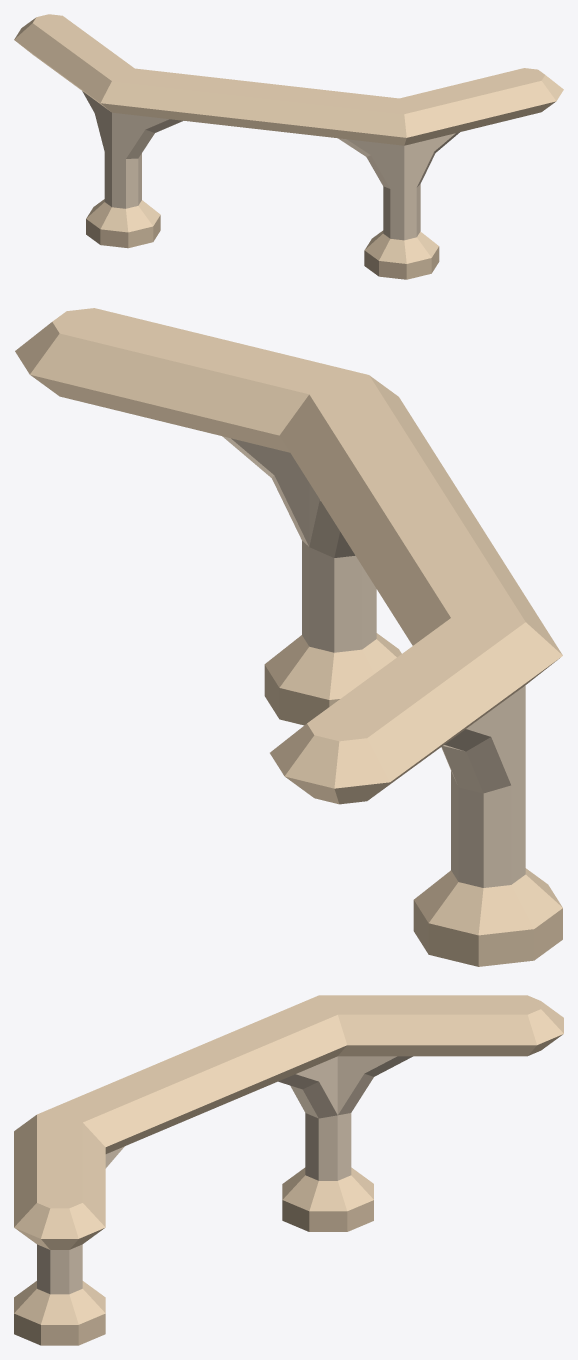
The model's file is Balcony_Railing_Curved_Small.glb.
3 views of the same model, one above another, from view 1: azimuth 30°, elevation 25°; view 2: azimuth 150°, elevation 25°; view 3: azimuth 270°, elevation 25° (orthographic). The views are drawn at different scales.
Visible parts, largest first — view 1: Balcony_Railing_Curved_Small; view 2: Balcony_Railing_Curved_Small; view 3: Balcony_Railing_Curved_Small.
Part boxes in pixels (bbox=[...]): Balcony_Railing_Curved_Small: bbox=[14, 14, 563, 279]; Balcony_Railing_Curved_Small: bbox=[15, 308, 562, 966]; Balcony_Railing_Curved_Small: bbox=[14, 995, 563, 1345].
Size of the model in its own units: 0.54 by 0.225 by 0.54.
